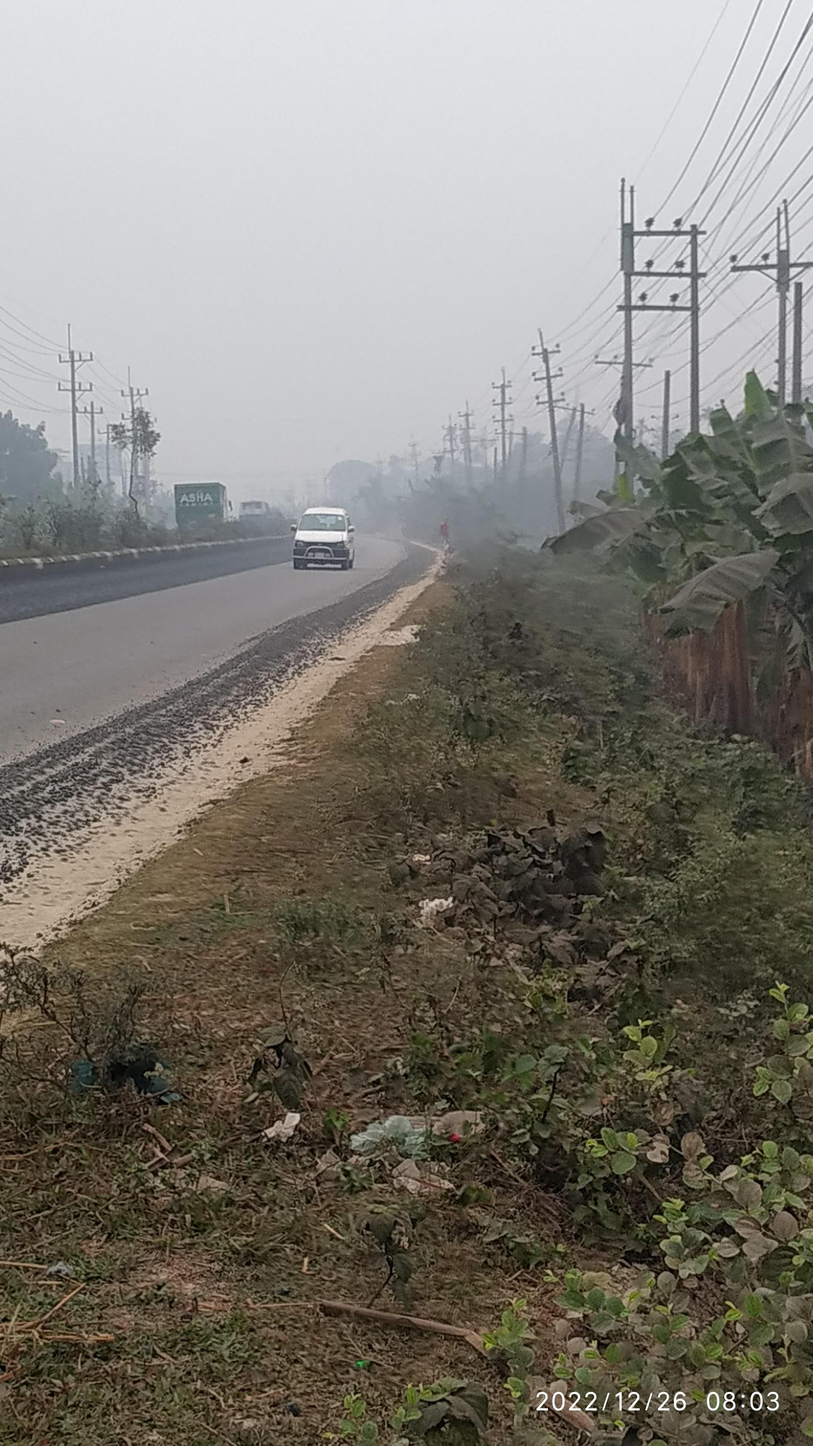Car: (291, 497, 364, 578)
Truck: (163, 470, 242, 540)
